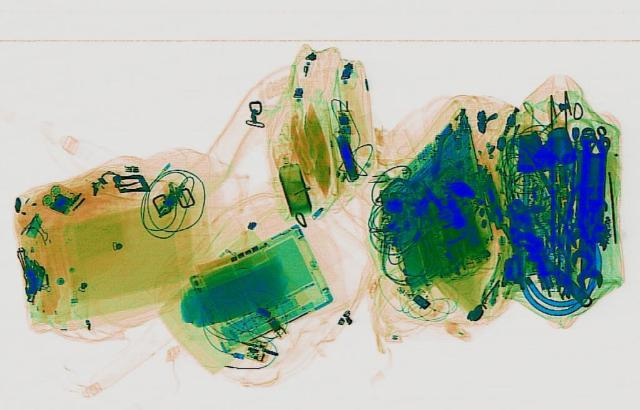Wrench: (571, 236, 603, 287), (569, 211, 597, 265)
